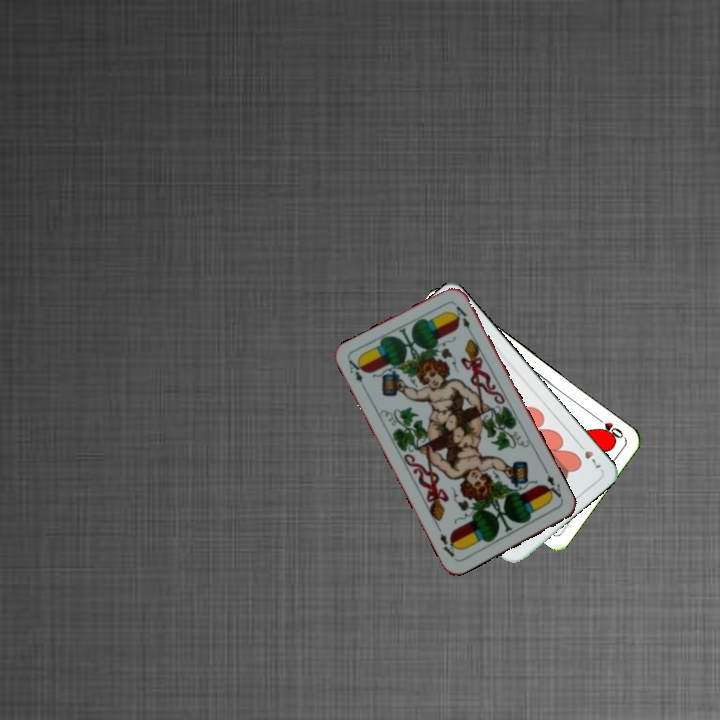EA: (345, 356, 369, 394), (541, 466, 564, 502)
H7: (574, 438, 604, 473)
HO: (591, 412, 626, 441)
